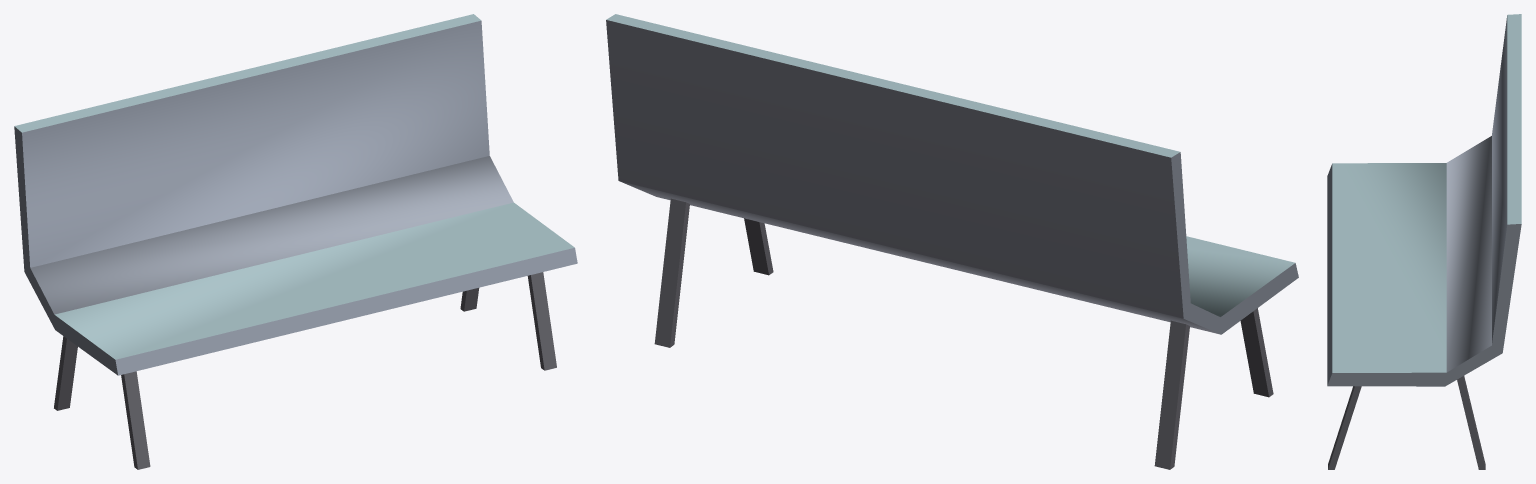
File: Prop_parkchairs.glb
The picture shows the model from 3 angles, left to right: view 1: azimuth 30°, elevation 25°; view 2: azimuth 150°, elevation 25°; view 3: azimuth 270°, elevation 25°; orthographic projection. The views are drawn at different scales.
Parts seen in each view (by area): view 1: Prop_parkchairs; view 2: Prop_parkchairs; view 3: Prop_parkchairs.
Boxes of the visible parts, x1=… form: Prop_parkchairs: x1=14, y1=14, x2=577, y2=469; Prop_parkchairs: x1=606, y1=14, x2=1298, y2=469; Prop_parkchairs: x1=1327, y1=14, x2=1521, y2=469.
Bounding box in the file's own units: 0.3016 × 0.1712 × 0.1181.
